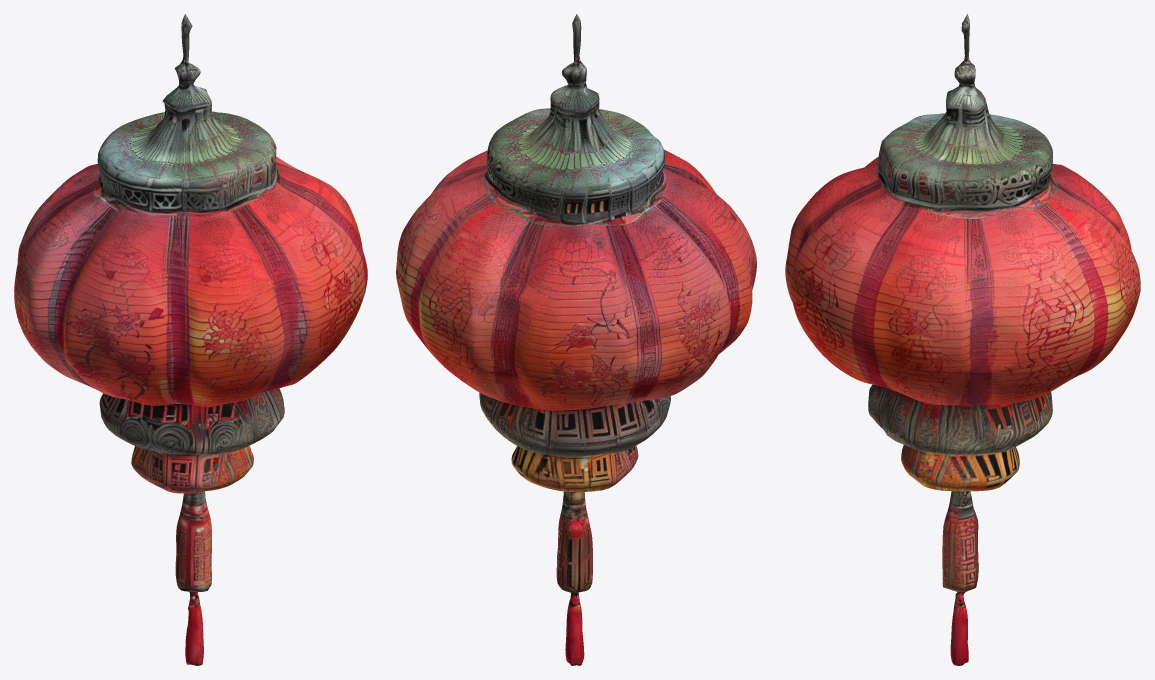
The model's file is Red Lantern.glb.
The picture shows the model from 3 angles, left to right: view 1: azimuth 30°, elevation 25°; view 2: azimuth 150°, elevation 25°; view 3: azimuth 270°, elevation 25°; orthographic projection.
Size of the model in its own units: 0.6029 by 1.2 by 0.5986.
1 material, 1 textured.
